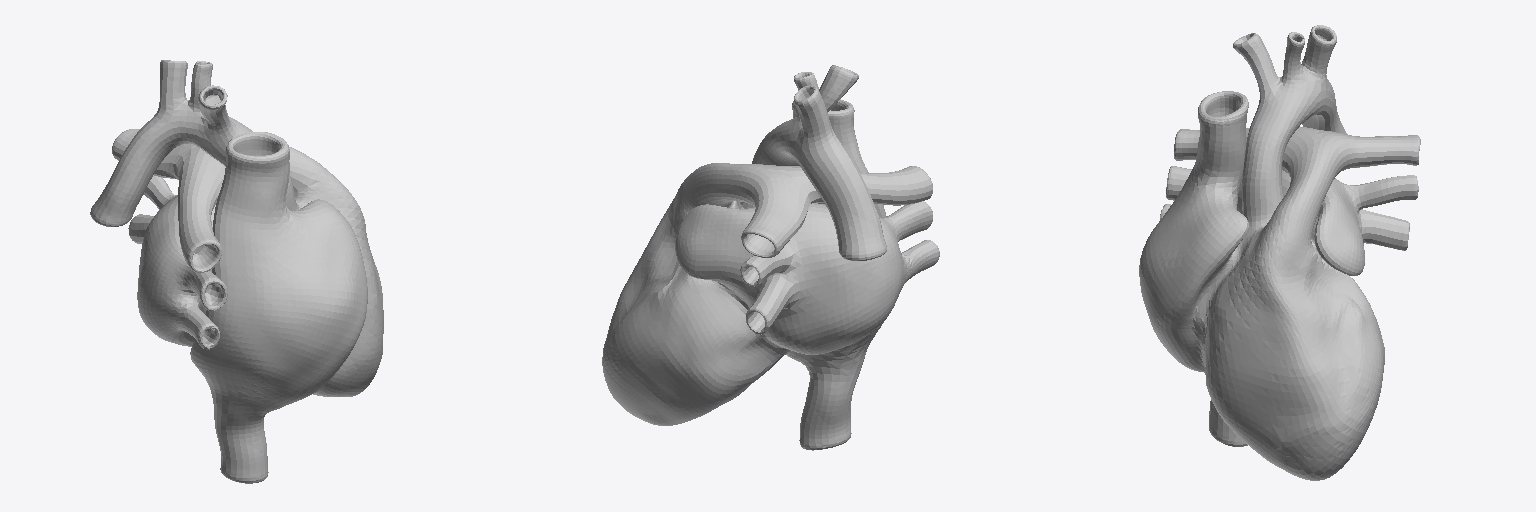
The picture shows the model from 3 angles: view 1: azimuth 30°, elevation 25°; view 2: azimuth 150°, elevation 25°; view 3: azimuth 270°, elevation 25°; orthographic projection.
Parts seen in each view (by area): view 1: HEART_PRO; view 2: HEART_PRO; view 3: HEART_PRO.
Boxes of the visible parts, box(x1,y1,x2,y2) form: HEART_PRO: box(90, 60, 383, 483); HEART_PRO: box(602, 65, 939, 450); HEART_PRO: box(1139, 25, 1420, 480).
Bounding box in the file's own units: 608 × 833 × 533.